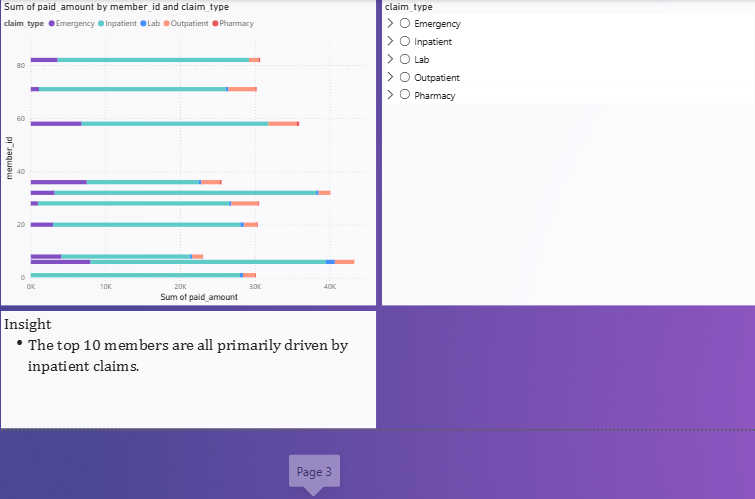

The page's visual inventory and layout, read from the dashboard file:
{"tool":"powerbi","page":{"name":"Page 3","canvas":[1280,720],"ordinal":2},"visuals":[{"type":"barChart","fields":{"Category":["members.member_id"],"Y":["Sum(claims.paid_amount)"],"Series":["claims.claim_type"]},"box":[10.2,0,629.8,513],"z":0},{"type":"textbox","box":[10,523,630,197],"z":1000},{"type":"listSlicer","fields":{"Values":["claims.claim_type","claims.member_id"]},"box":[650,0,630,513],"z":2000}]}

Visuals, with their boxes on the page's 1280x720 design canvas (x1, y1, x2, y2). These are canvas units, not pixel positions in the 755x499 screenshot, which may show the page scaled, cropped or inside an application window:
barChart - members.member_id x Sum(claims.paid_amount): locate(10, 0, 640, 513)
textbox: locate(10, 523, 640, 720)
listSlicer - claims.claim_type x claims.member_id: locate(650, 0, 1280, 513)
